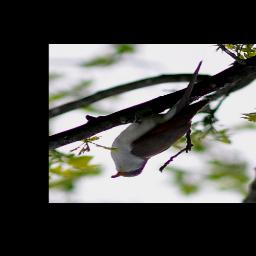Cuckoo: (109, 58, 212, 178)
